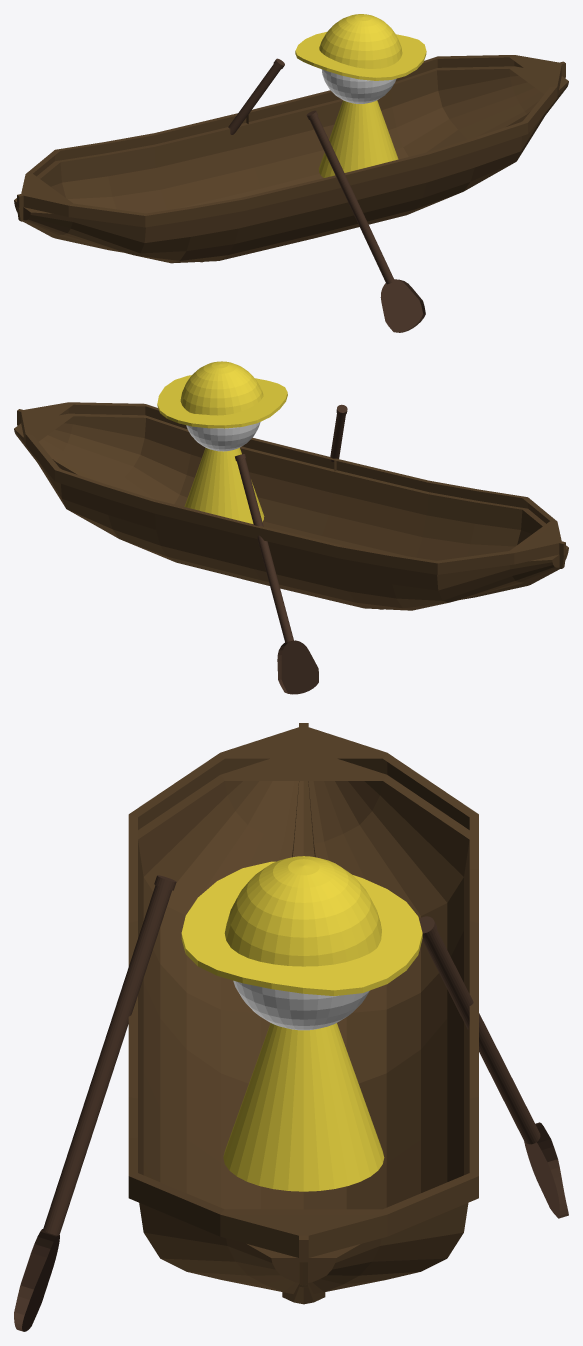
The model's file is model_boat.fbx.
3 renders of one model, top to bottom at view 1: azimuth 30°, elevation 25°; view 2: azimuth 150°, elevation 25°; view 3: azimuth 270°, elevation 25°, orthographic. The views are drawn at different scales.
Visible parts, largest first — view 1: boat; view 2: boat; view 3: boat.
Part boxes in pixels (box(x1,y1,x2,y2)): boat: box(14, 14, 568, 332); boat: box(14, 361, 568, 694); boat: box(14, 723, 568, 1331).
Size of the model in its own units: 738 by 327 by 335.
